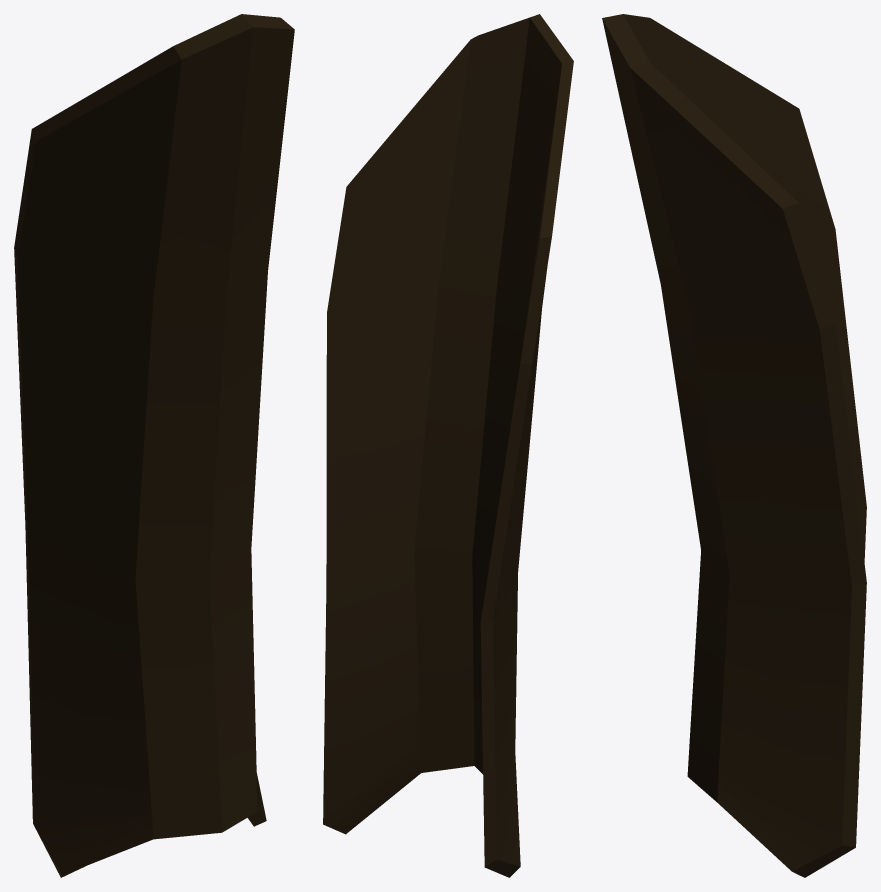
Rendered from Leg_1_L.fbx.
3 views of the same model, side by side, from view 1: azimuth 30°, elevation 25°; view 2: azimuth 150°, elevation 25°; view 3: azimuth 270°, elevation 25° (orthographic). The views are drawn at different scales.
Visible parts, largest first — view 1: Leg_1_L; view 2: Leg_1_L; view 3: Leg_1_L.
Boxes of the visible parts, x1,y1,x2,y2 form: Leg_1_L: [14, 14, 294, 877]; Leg_1_L: [323, 14, 573, 877]; Leg_1_L: [602, 14, 866, 877].
Size of the model in its own units: 14.06 by 51.26 by 15.04.
